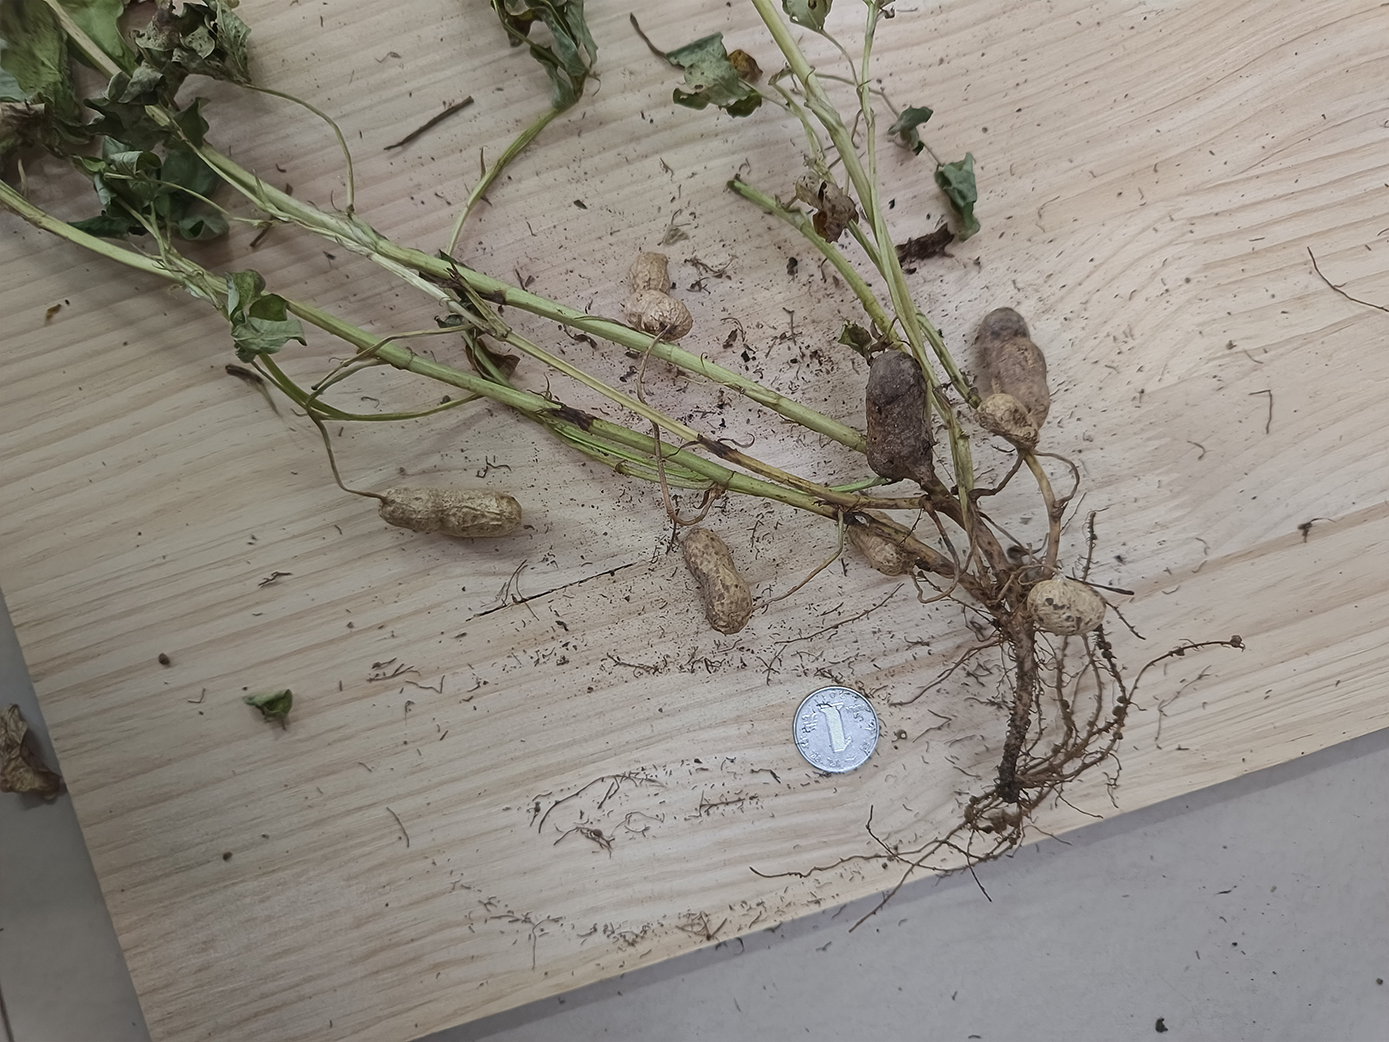h: (684, 530, 753, 634), (378, 490, 520, 539), (626, 250, 692, 339), (849, 513, 918, 576), (1026, 579, 1106, 633), (975, 395, 1039, 447)
l: (977, 306, 1047, 425), (866, 349, 929, 476)
